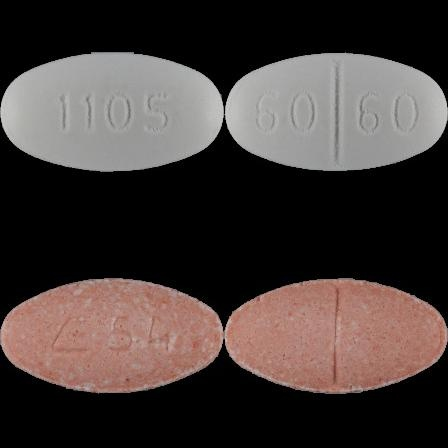76237-303: (0, 0, 224, 224)
